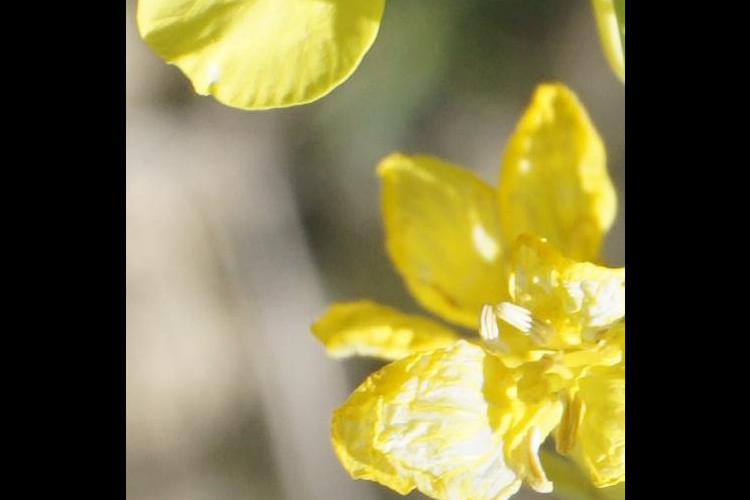yellow: (358, 116, 616, 500)
